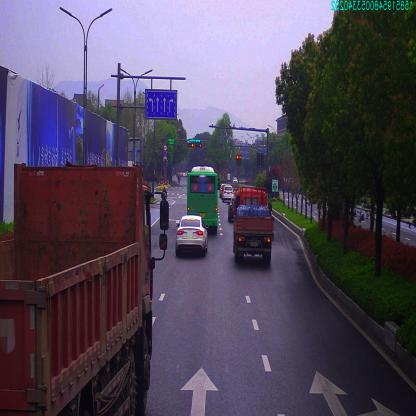traffic-light: (189, 137, 201, 142), (190, 141, 195, 149), (196, 143, 203, 148)
